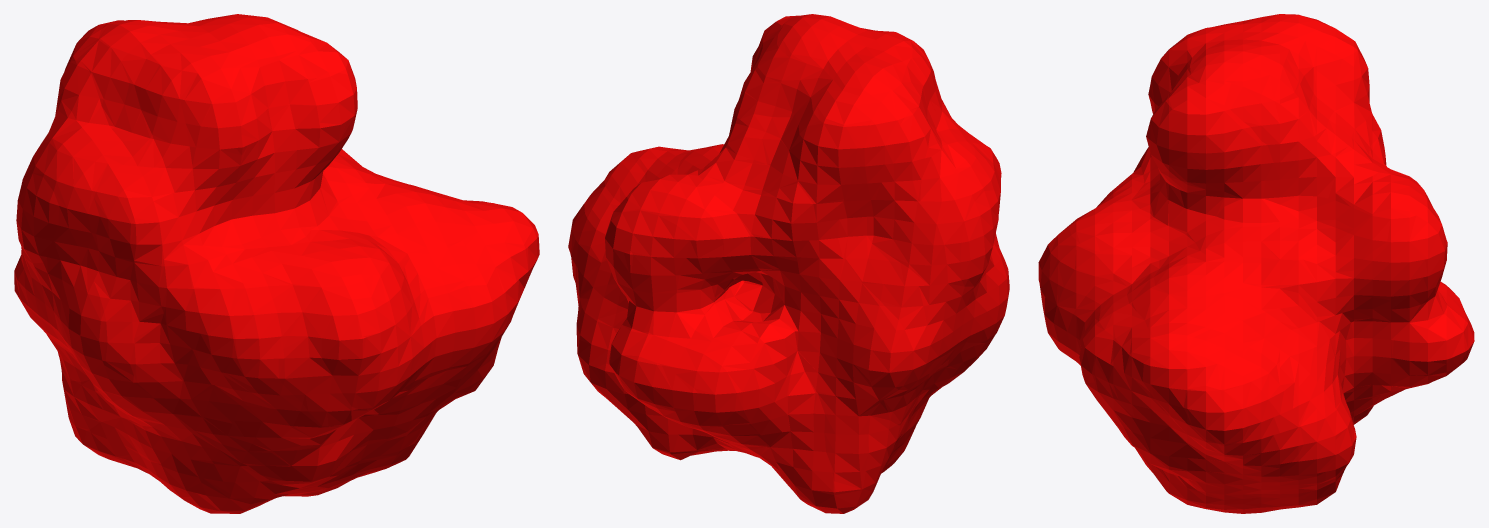
The model's file is mdh_coarse.dae.
3 views of the same model, side by side, from view 1: azimuth 30°, elevation 25°; view 2: azimuth 150°, elevation 25°; view 3: azimuth 270°, elevation 25° (orthographic). The views are drawn at different scales.
Visible parts, largest first — view 1: mdh; view 2: mdh; view 3: mdh.
Part boxes in pixels (x1=…): mdh: x1=14, y1=14, x2=539, y2=513; mdh: x1=568, y1=14, x2=1009, y2=513; mdh: x1=1038, y1=14, x2=1474, y2=513.
Size of the model in its own units: 58.15 by 56.28 by 52.42.
